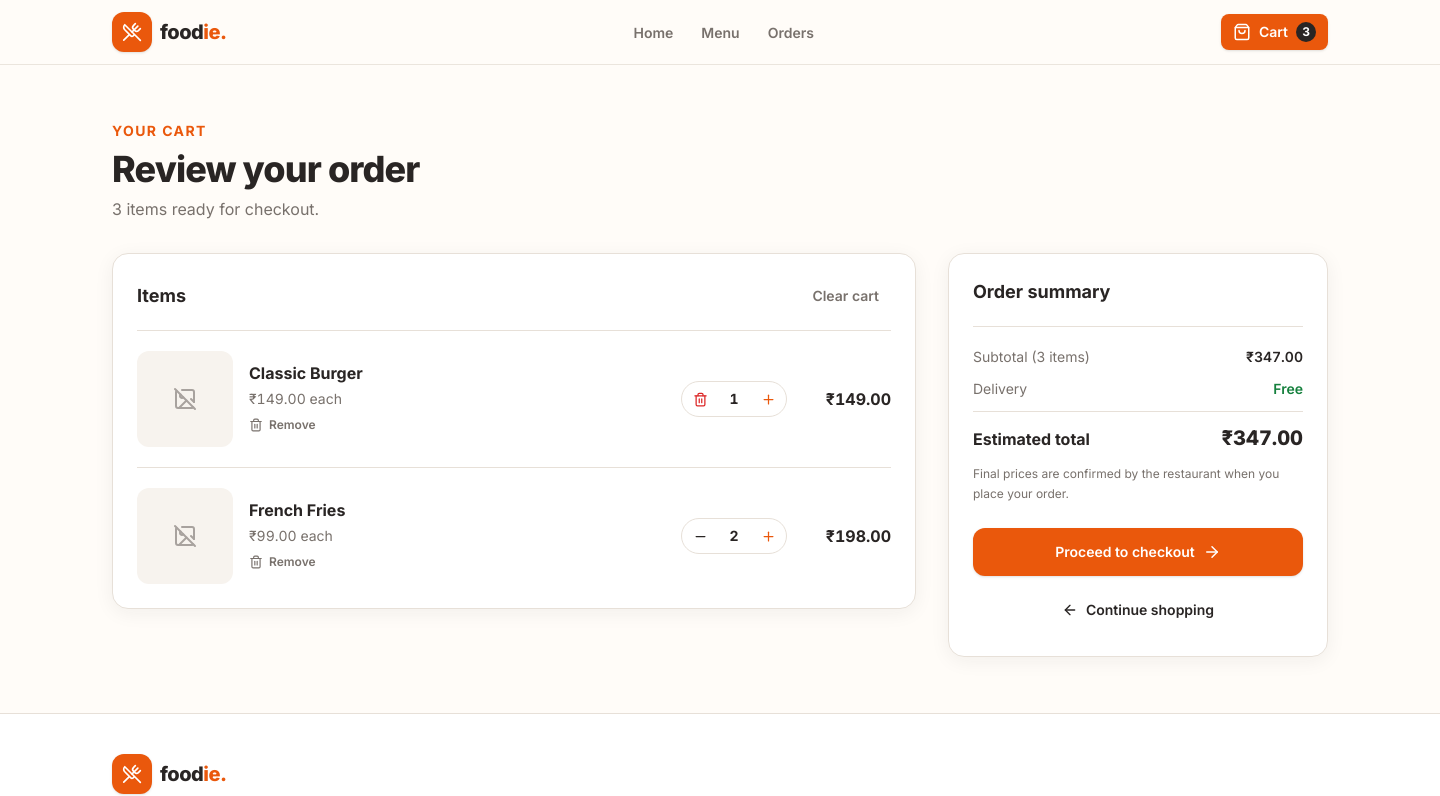
Scenario: Cart page › asks for confirmation before clearing the cart
Click the button "Clear cart" at (846,296), box [800,278,891,314]
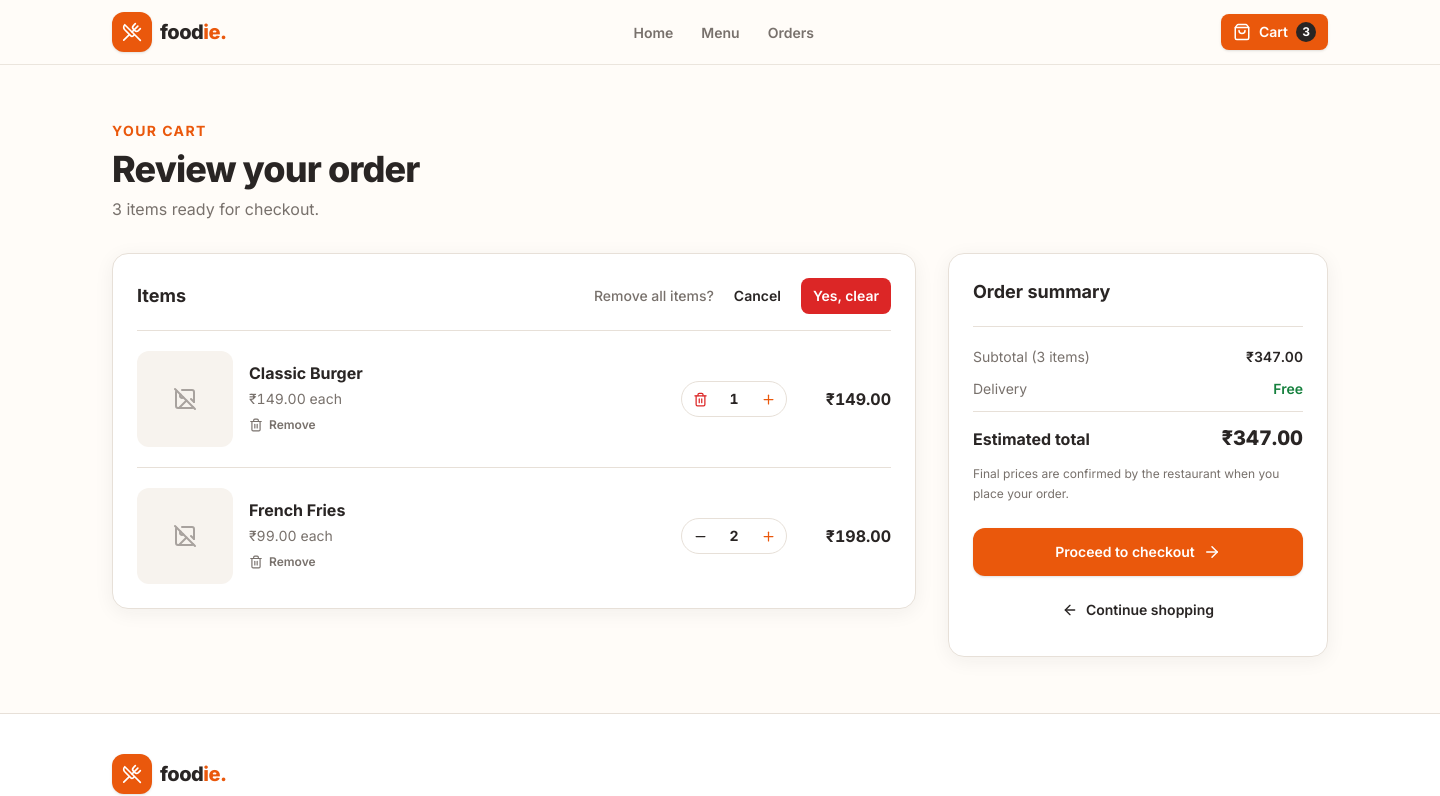
Click the button "Cancel" at (757,296), box [722,278,793,314]
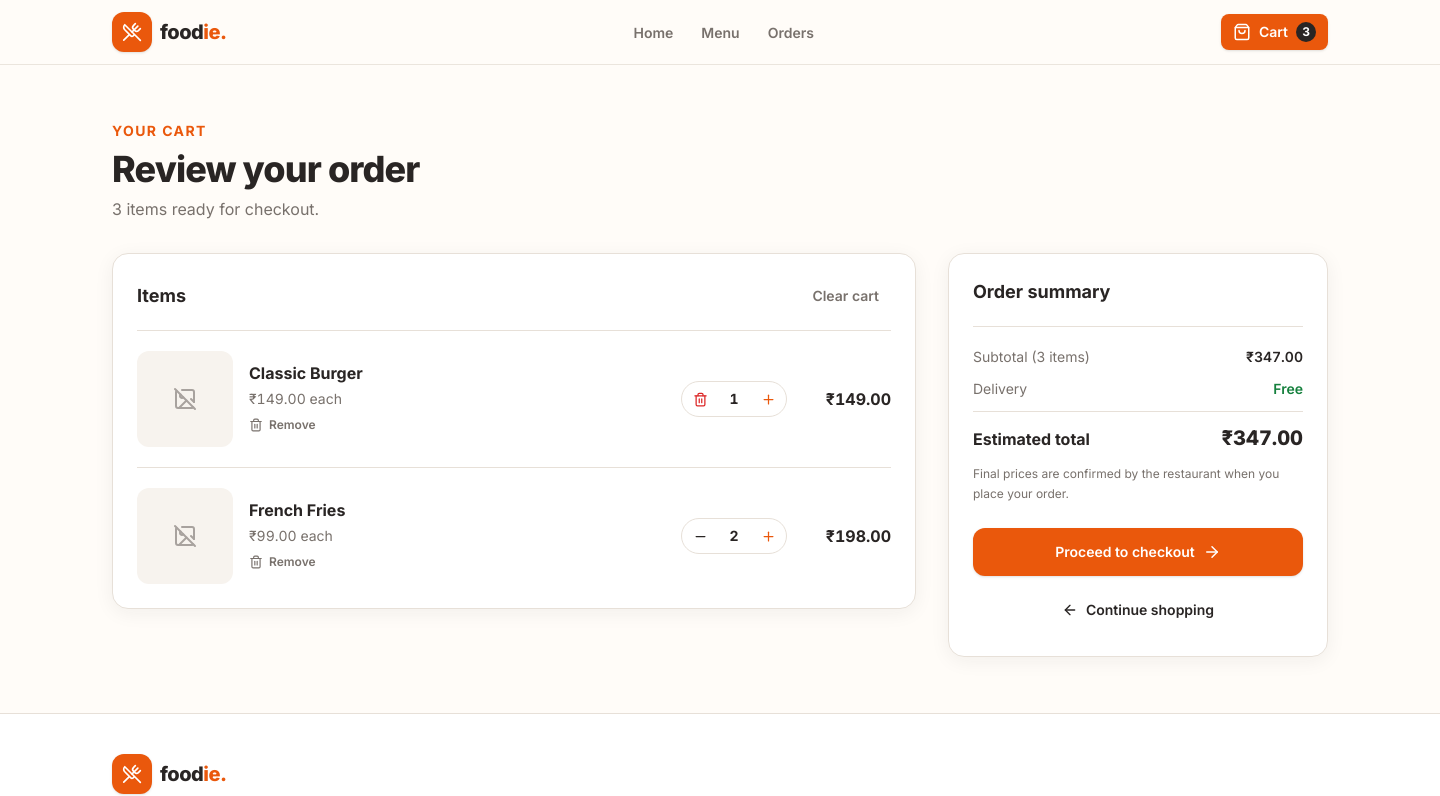
Click the button "Clear cart" at (846,296), box [800,278,891,314]
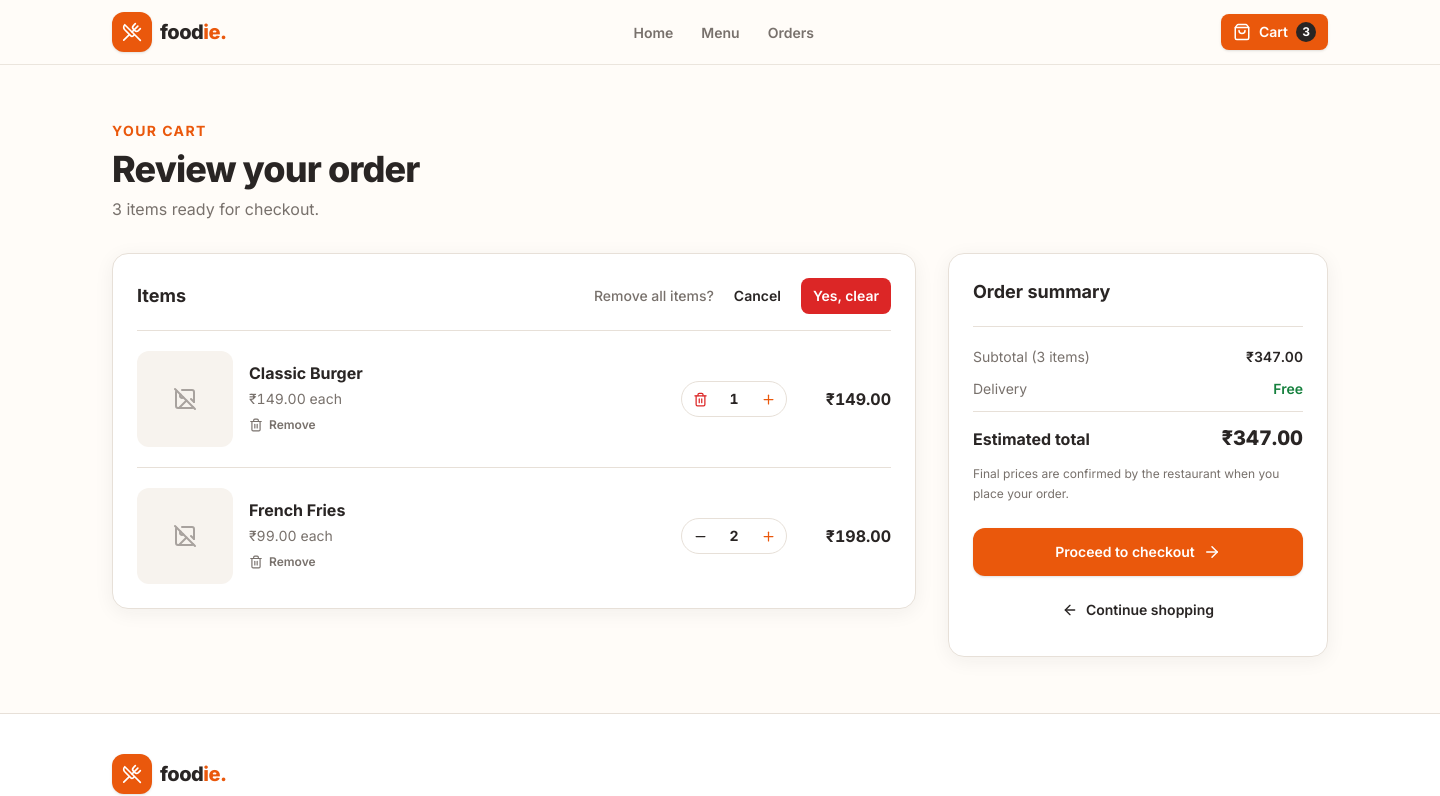
Click the button "Yes, clear" at (846,296), box [801,278,891,314]
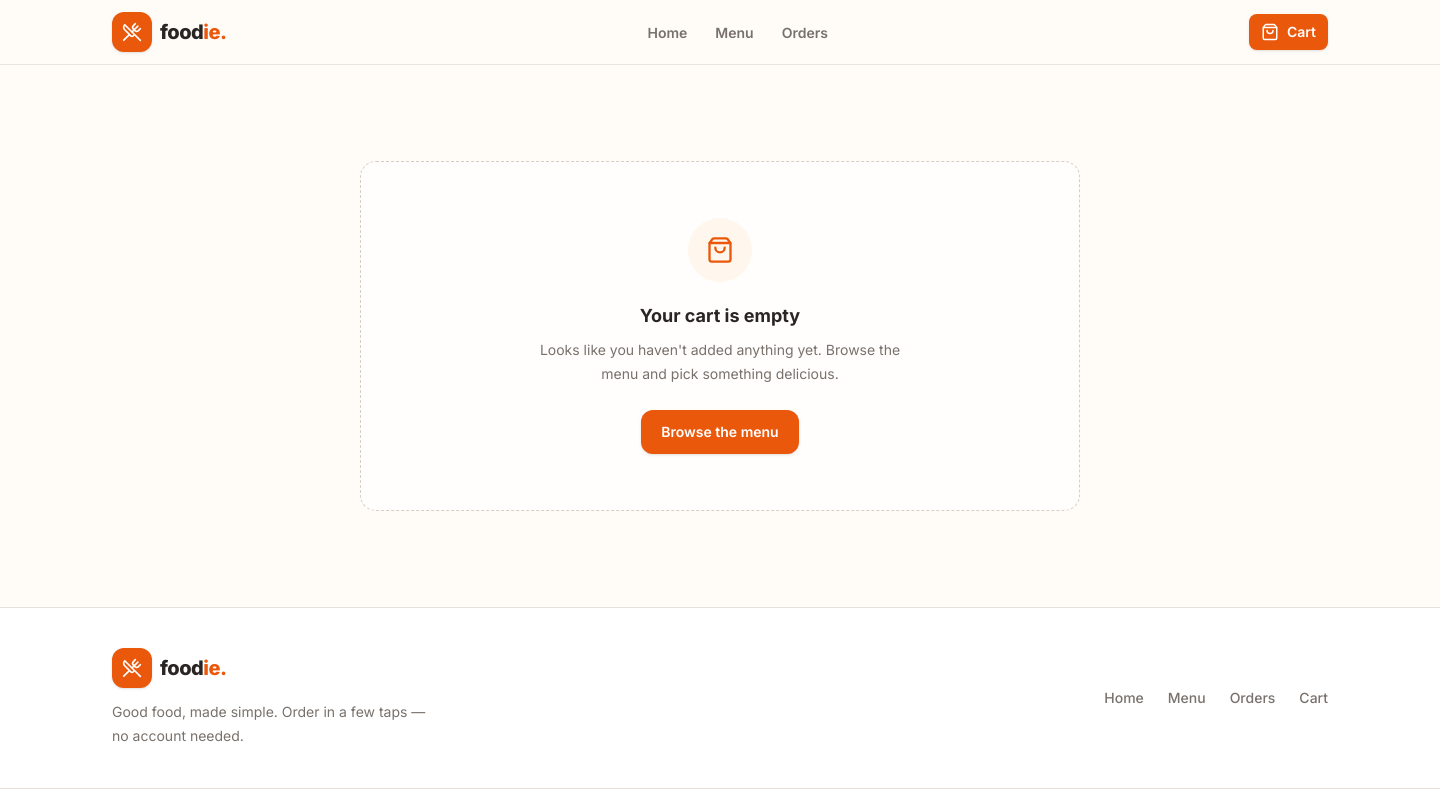
Result: the heading "Your cart is empty" is shown at [640,302,800,330]
